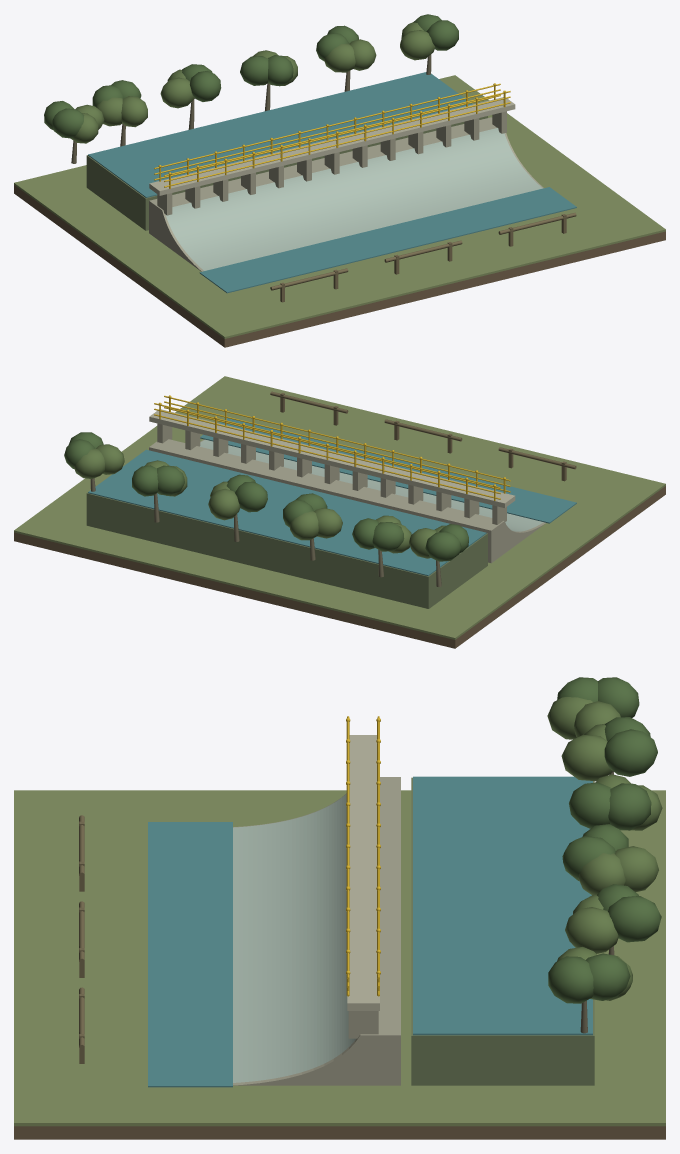
The model's file is gms-16.glb.
3 views of the same model, one above another, from view 1: azimuth 30°, elevation 25°; view 2: azimuth 150°, elevation 25°; view 3: azimuth 270°, elevation 25° (orthographic). The views are drawn at different scales.
Parts seen in each view (by area): view 1: GMS-16 - estudio del paisaje; view 2: GMS-16 - estudio del paisaje; view 3: GMS-16 - estudio del paisaje.
Part boxes in pixels (x1,y1,x2,y2): GMS-16 - estudio del paisaje: (14, 14, 665, 347); GMS-16 - estudio del paisaje: (14, 376, 665, 648); GMS-16 - estudio del paisaje: (14, 677, 665, 1139).
Bounding box in the file's own units: 11.6 × 2.42 × 9.6.
